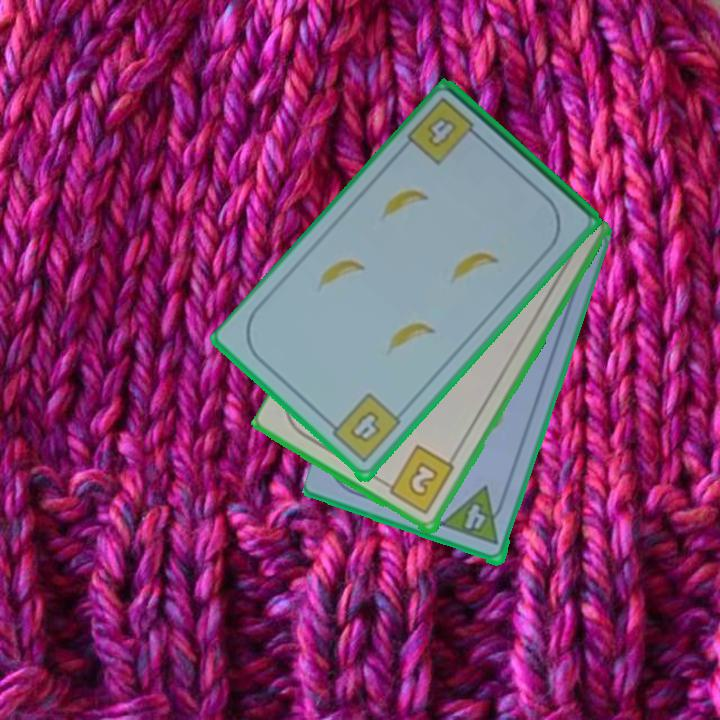2b: (379, 442, 457, 518)
4b: (403, 94, 487, 169), (323, 390, 404, 467)
4p: (439, 484, 510, 549)
